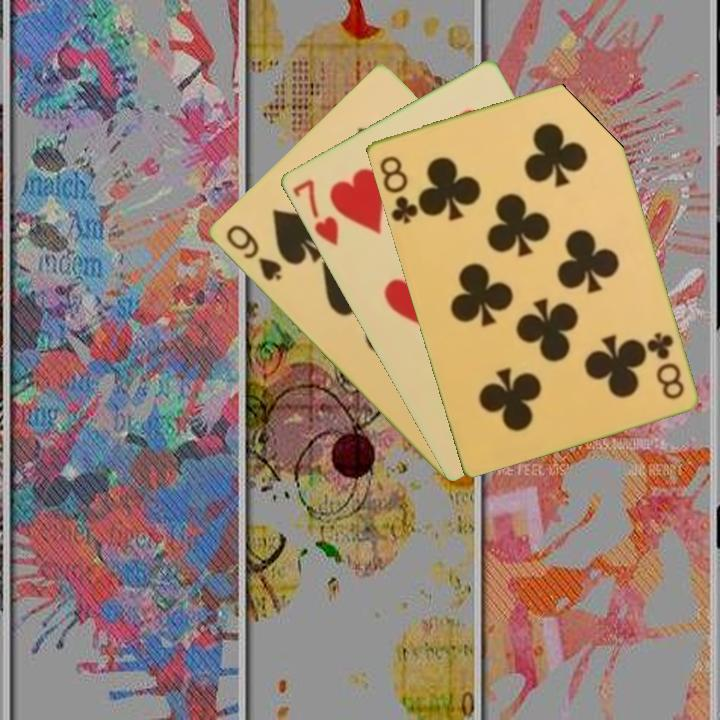7h: (288, 175, 341, 248)
8c: (375, 152, 424, 227), (642, 328, 687, 402)
9s: (222, 221, 284, 284)
